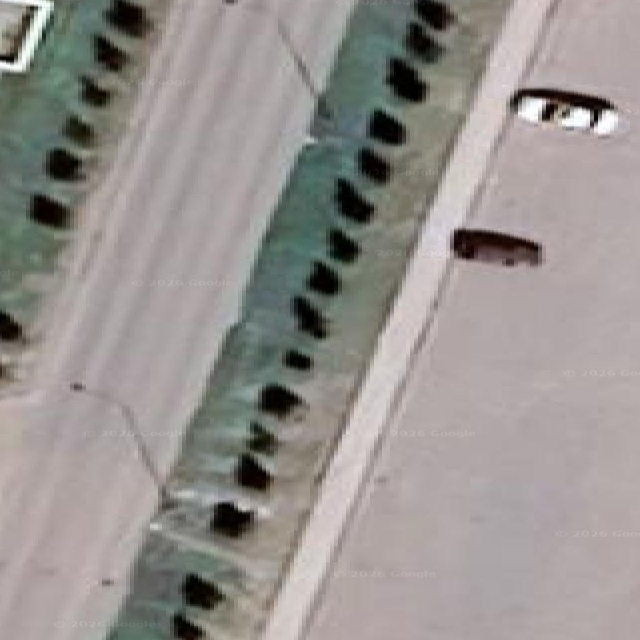car: (511, 88, 619, 135)
